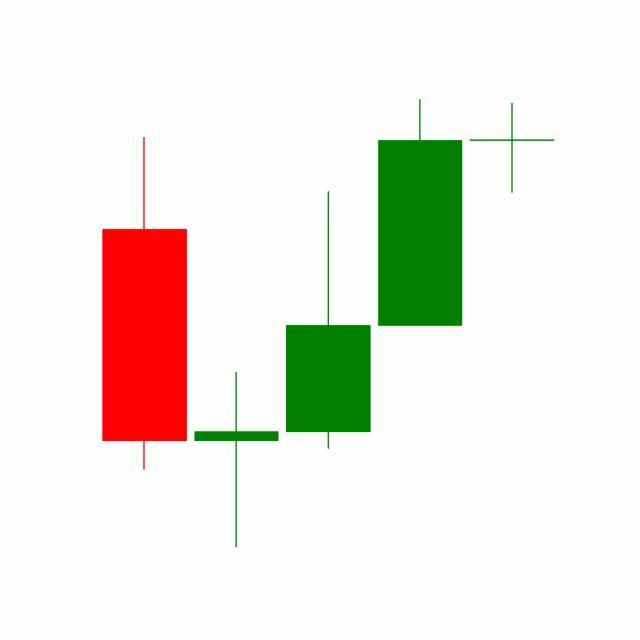Spinning Top: (466, 103, 559, 195)
